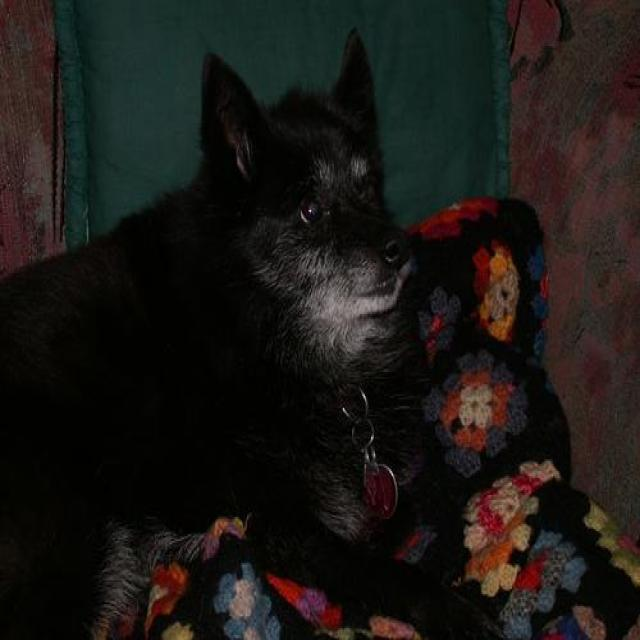Dog: (131, 87, 532, 572)
